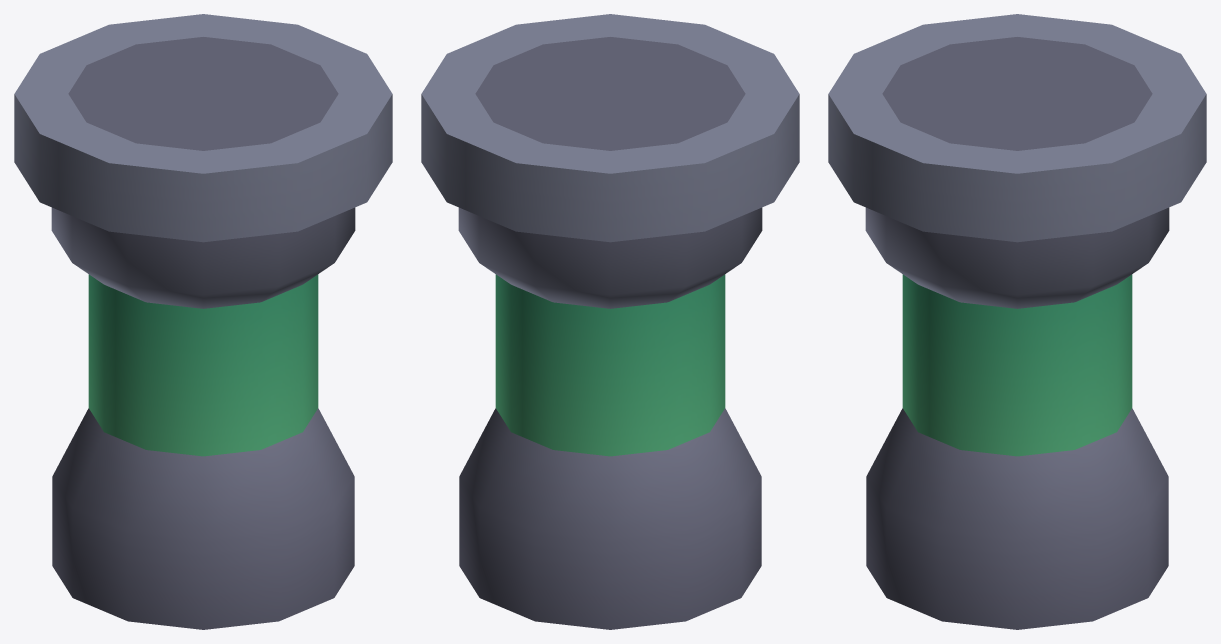
The model's file is column.glb.
The picture shows the model from 3 angles, left to right: view 1: azimuth 30°, elevation 25°; view 2: azimuth 150°, elevation 25°; view 3: azimuth 270°, elevation 25°; orthographic projection.
Visible parts, largest first — view 1: column; view 2: column; view 3: column.
Part boxes in pixels (box(x1,y1,x2,y2)): column: box(14, 14, 392, 629); column: box(421, 14, 799, 629); column: box(828, 14, 1206, 629).
Size of the model in its own units: 0.7258 by 1 by 0.7258.
Materials: 1 (1 with a texture image).
